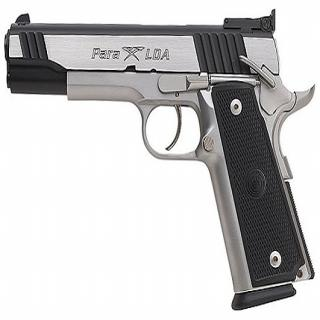gun: (4, 5, 313, 312)
